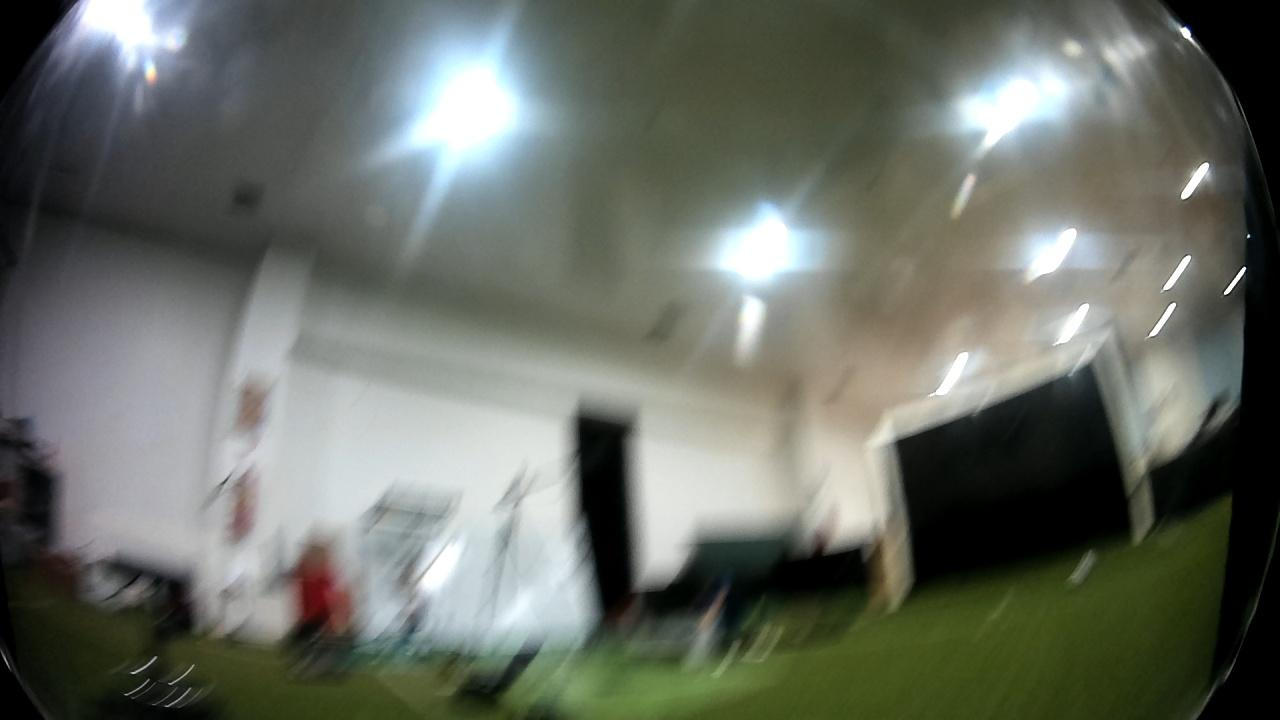ball: (1064, 546, 1102, 591)
